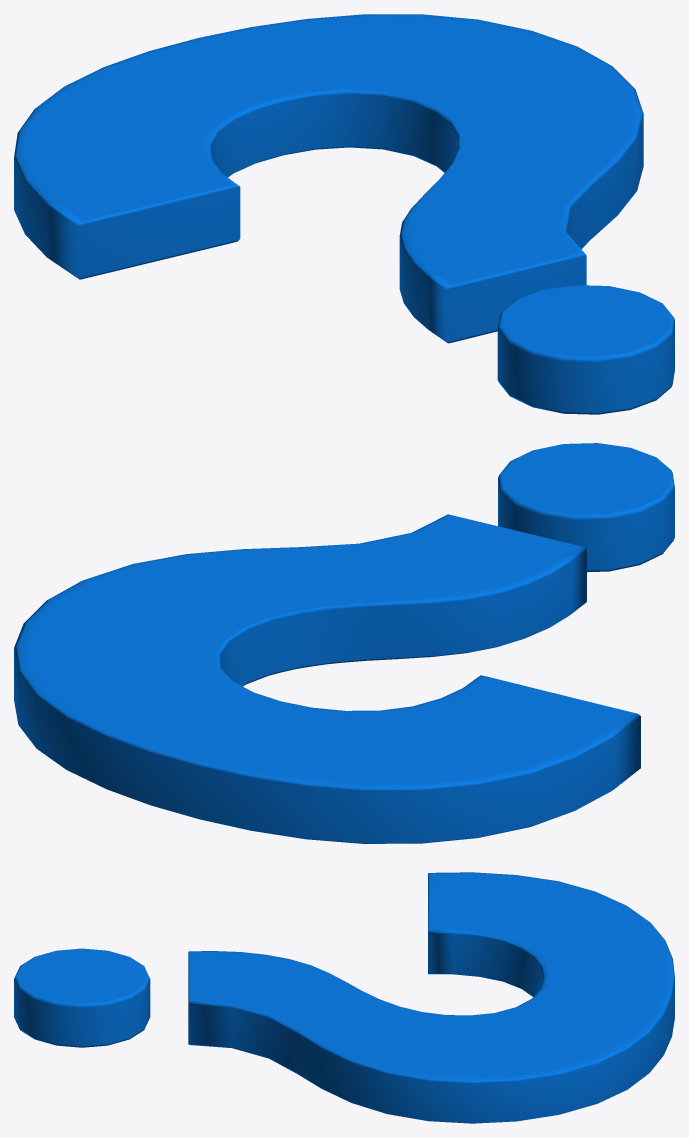
Rendered from Question.fbx.
3 views of the same model, one above another, from view 1: azimuth 30°, elevation 25°; view 2: azimuth 150°, elevation 25°; view 3: azimuth 270°, elevation 25° (orthographic). The views are drawn at different scales.
Parts seen in each view (by area): view 1: Ball Placement Marker; view 2: Ball Placement Marker; view 3: Ball Placement Marker.
Part boxes in pixels (x1,y1,x2,y2): Ball Placement Marker: (14, 14, 674, 414); Ball Placement Marker: (14, 443, 674, 843); Ball Placement Marker: (14, 872, 674, 1123).
Bounding box in the file's own units: 1.28 × 0.1257 × 1.7.
